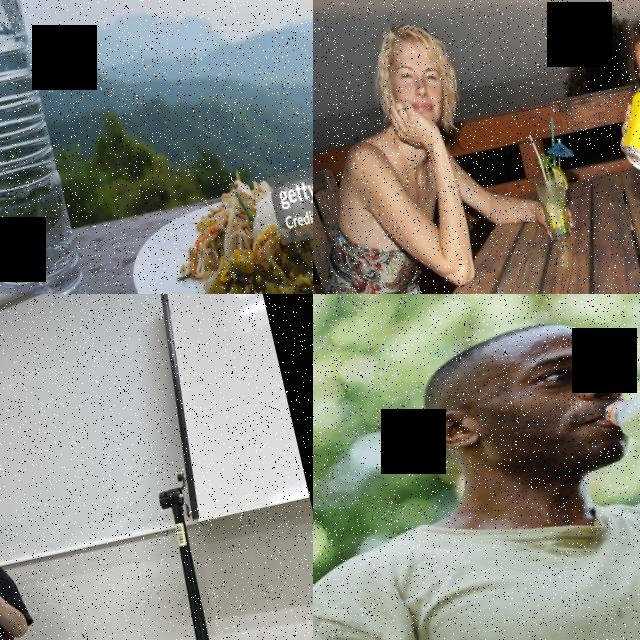bottle: (0, 0, 97, 294)
can: (607, 78, 640, 177)
